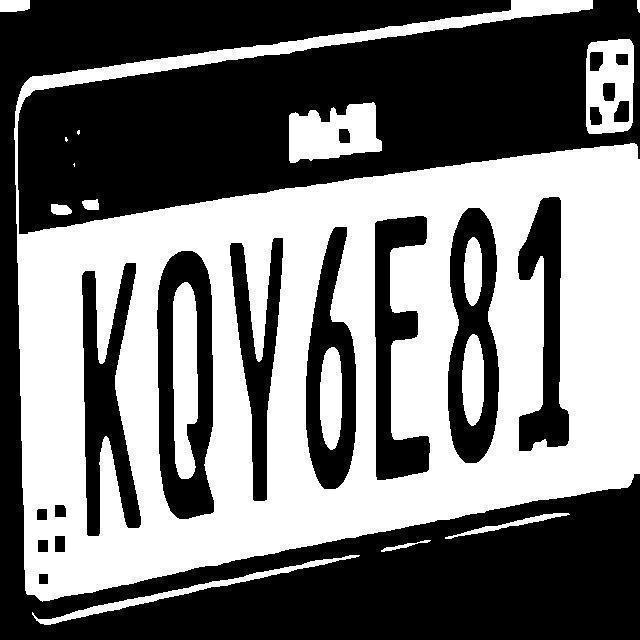1: (513, 184, 576, 483)
6: (303, 216, 359, 516)
8: (445, 188, 503, 478)
e: (373, 192, 437, 504)
k: (76, 244, 142, 540)
q: (154, 223, 218, 522)
y: (229, 216, 291, 514)
